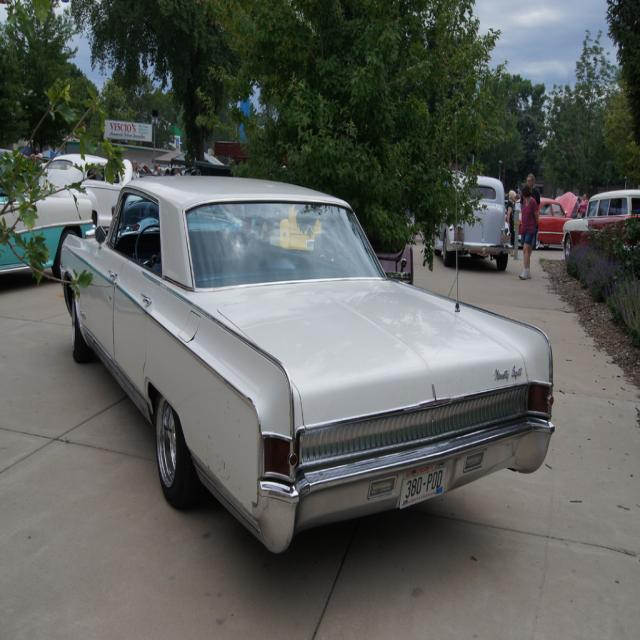car: (53, 179, 553, 544)
